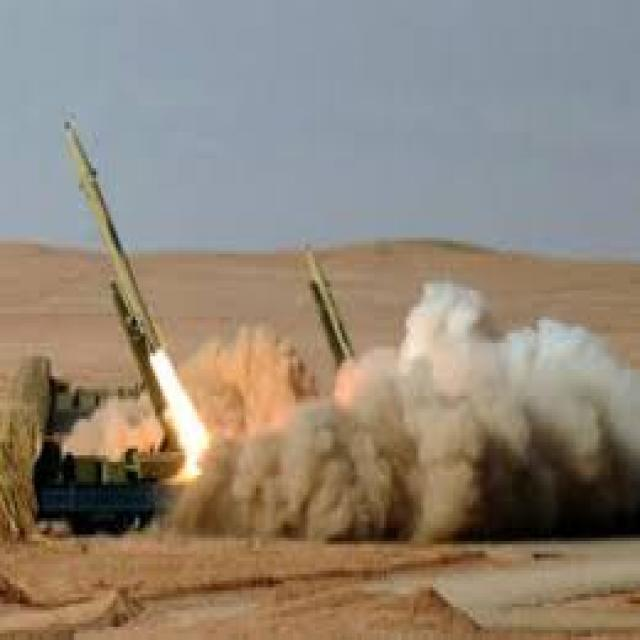missile: (57, 118, 170, 358), (300, 237, 352, 369)
